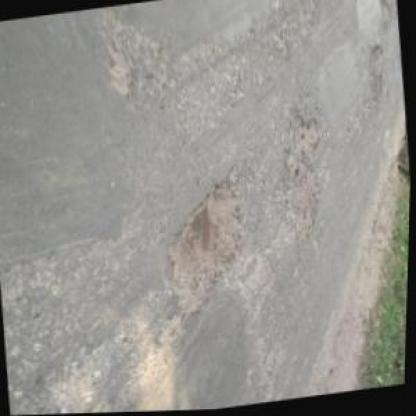pothole: (156, 178, 256, 324), (274, 107, 332, 245), (362, 44, 391, 107), (372, 0, 395, 32)
